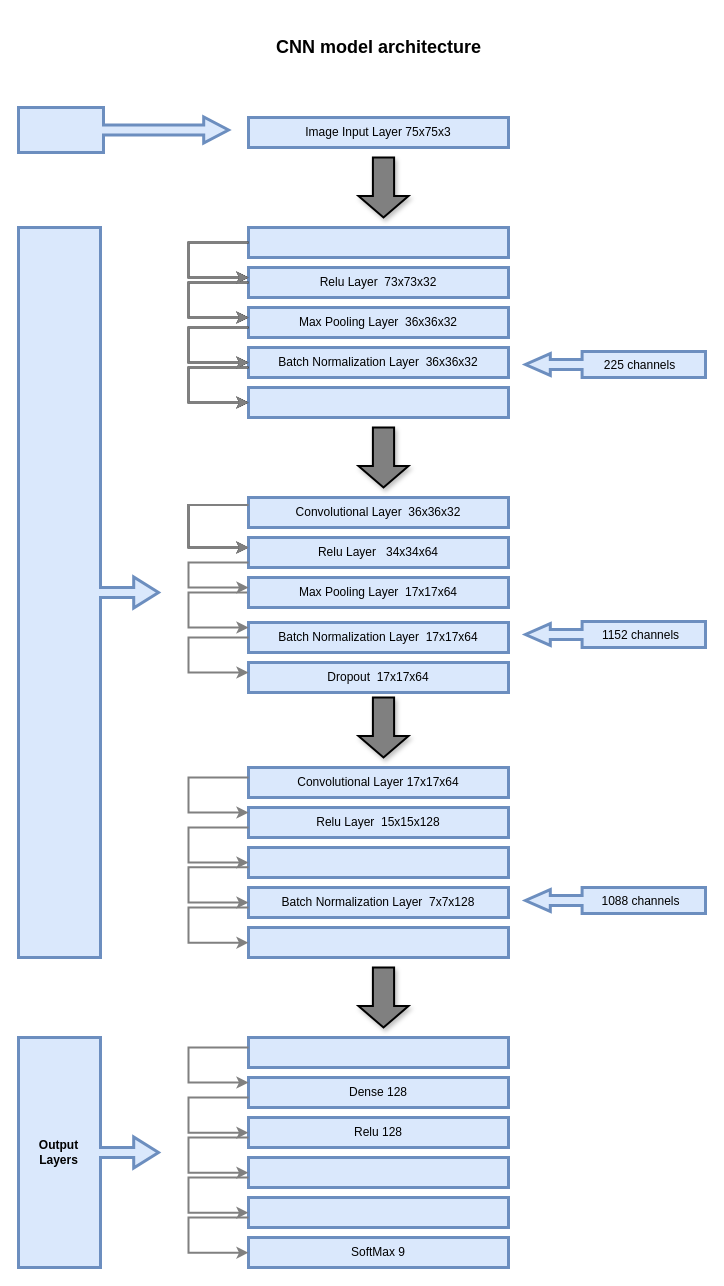
Image size: 724x1286. Some labels were removed from this diagram. The shapes that lost their labels are listed below. From the top down, each one's centre as x and y in pixels, then its label:
At point 123,130: "Input Layer".
At point 378,242: "Convolutional Layer 75x75x3".
At point 378,402: "Dropout 36x36x32".
At point 88,592: "Hidden Layers".
At point 378,862: "Max Pooling Layer 7x7x128".
At point 378,942: "Dropout 7x7x128".
At point 378,1052: "Flattten 6272".
At point 378,1172: "Batch Normalization 128".
At point 378,1212: "Dropout 128".
